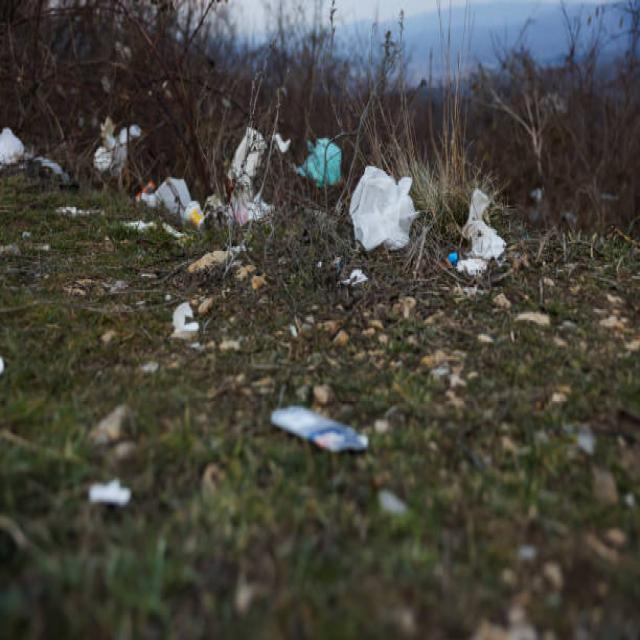plastic: (357, 177, 411, 248)
